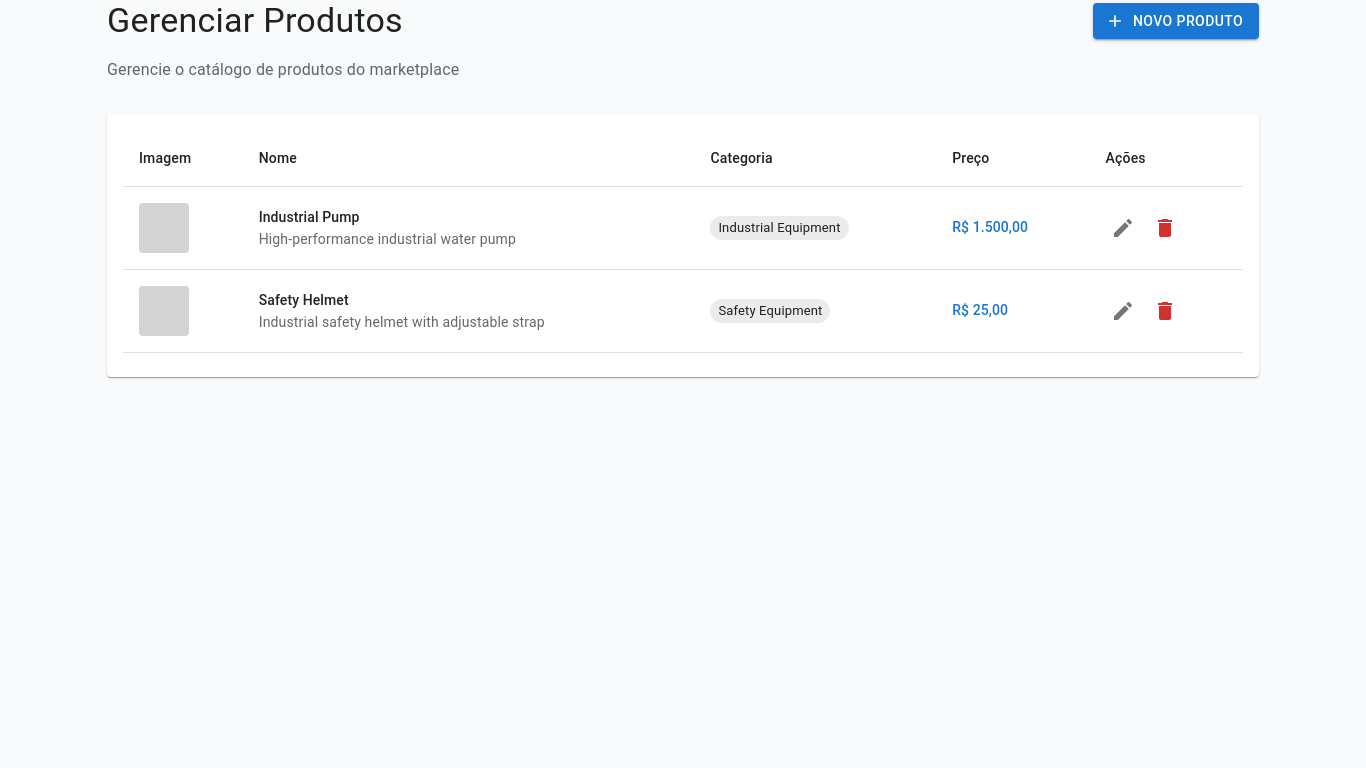
Scenario: AdminProductsPage › Dialog Management › should close dialog when clicking cancel
Expected: the heading "Industrial Pump" is shown, [259,209,360,225]
# Open dialog
Click the button "Novo Produto": click(1176, 21) [1093,3,1259,39]
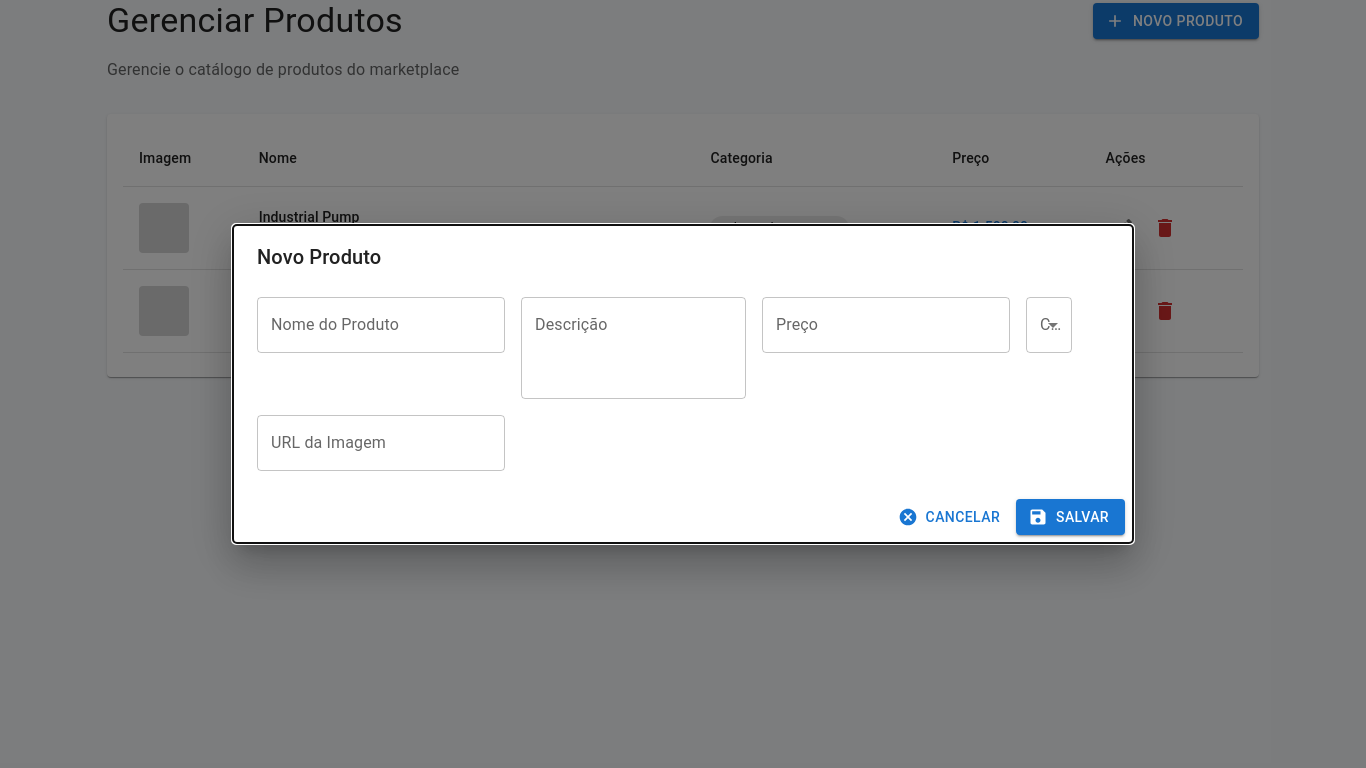
Expected: the dialog is shown, [233,225,1133,543]
# Close dialog
Click the button "Cancelar": click(951, 517) [894,499,1008,535]
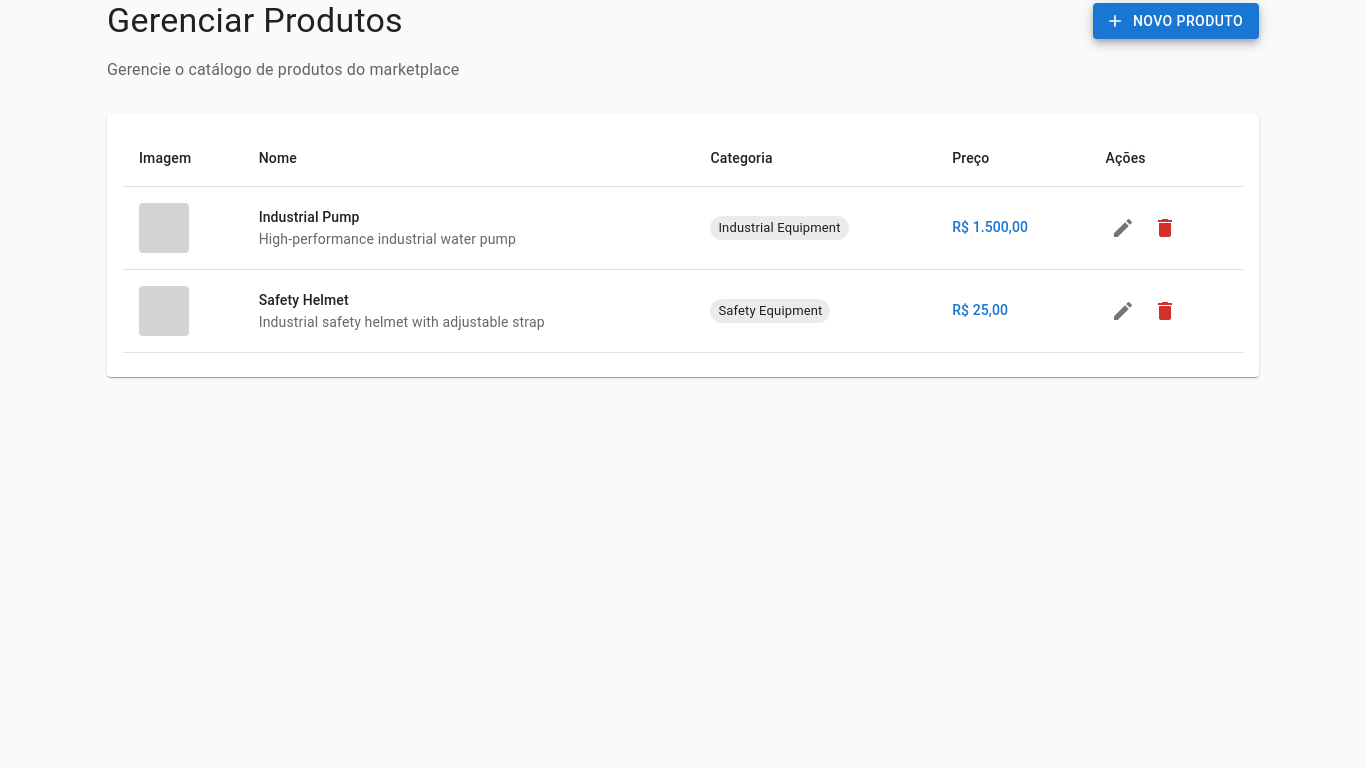
Expected: the dialog is gone
